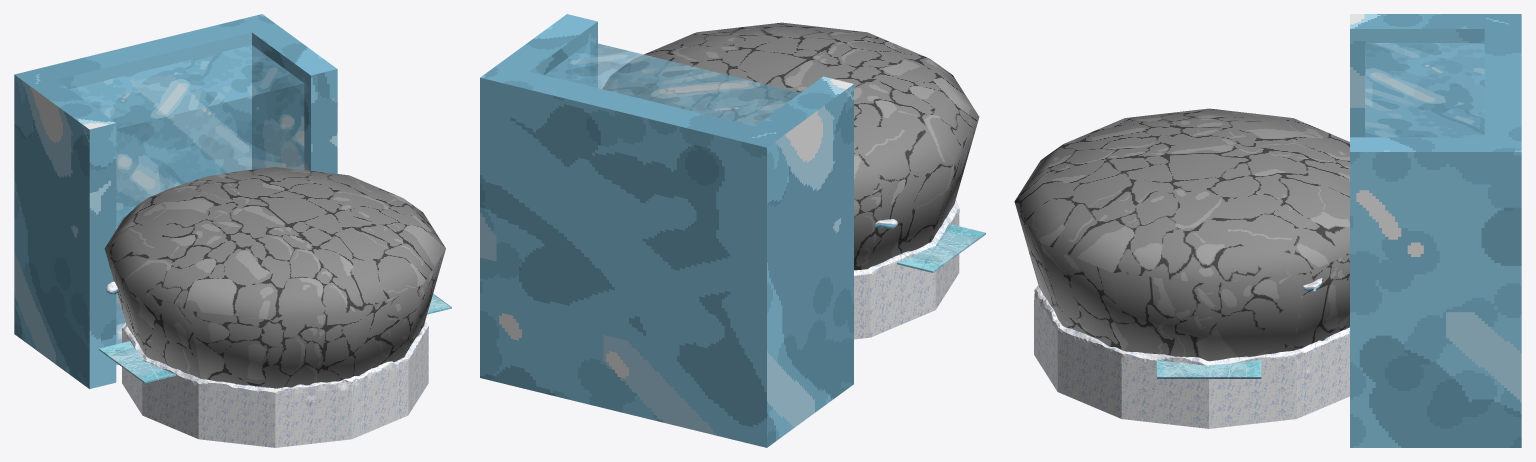
File: CanadaArena.fbx
The picture shows the model from 3 angles, left to right: view 1: azimuth 30°, elevation 25°; view 2: azimuth 150°, elevation 25°; view 3: azimuth 270°, elevation 25°; orthographic projection. The views are drawn at different scales.
Visible parts, largest first — view 1: Cube.021, Sphere.001, Cube, Sphere.004, Cube.011; view 2: Cube.021, Sphere.001, Cube, Sphere.004, Cube.011; view 3: Cube.021, Sphere.001, Sphere.004, Cube, Cube.010.
Part boxes in pixels (x1=…): Cube.021: x1=14, y1=14, x2=337, y2=388; Sphere.001: x1=104, y1=167, x2=445, y2=388; Cube: x1=70, y1=45, x2=304, y2=365; Sphere.004: x1=122, y1=322, x2=428, y2=447; Cube.011: x1=99, y1=341, x2=175, y2=383; Cube.021: x1=480, y1=14, x2=853, y2=447; Sphere.001: x1=603, y1=22, x2=979, y2=270; Cube: x1=545, y1=41, x2=799, y2=126; Sphere.004: x1=854, y1=200, x2=959, y2=339; Cube.011: x1=897, y1=224, x2=985, y2=272; Cube.021: x1=1350, y1=14, x2=1521, y2=447; Sphere.001: x1=1014, y1=108, x2=1349, y2=361; Sphere.004: x1=1034, y1=285, x2=1349, y2=428; Cube: x1=1365, y1=43, x2=1484, y2=137; Cube.010: x1=1157, y1=360, x2=1261, y2=378.
Size of the model in its own units: 4353 by 3517 by 5460.
